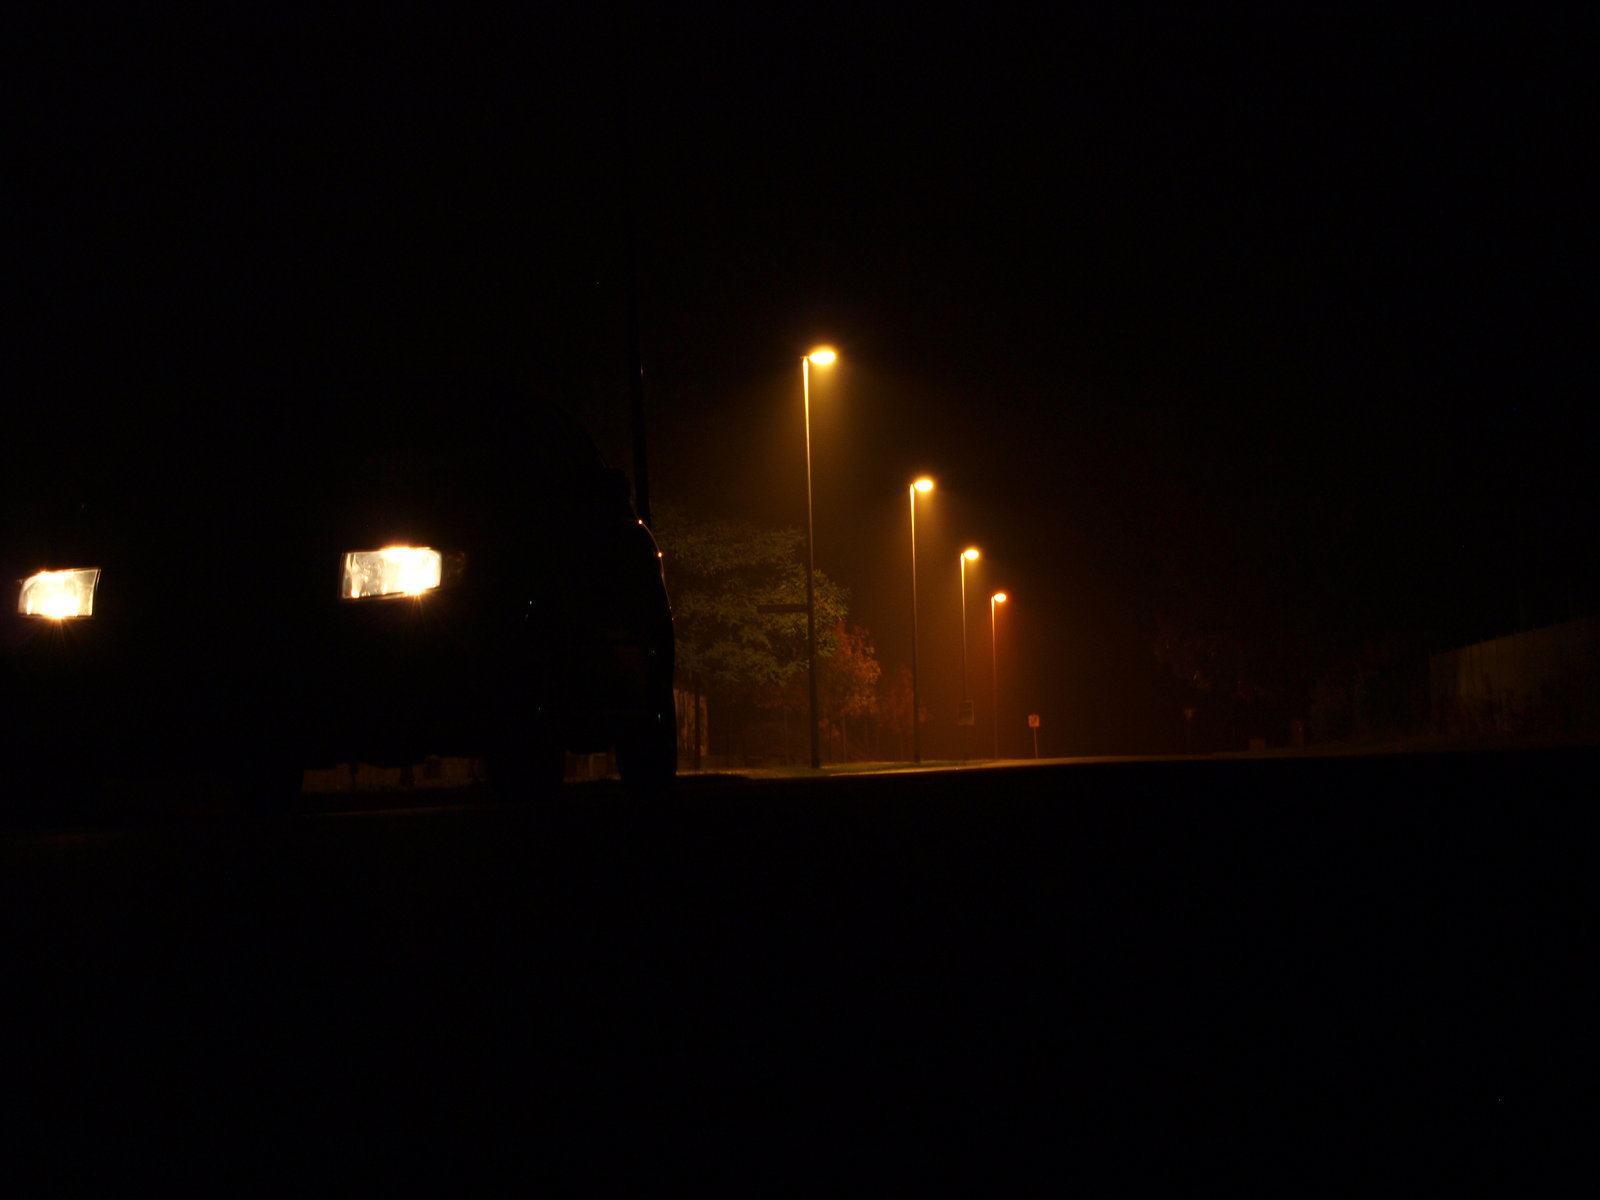car: (6, 350, 708, 834)
